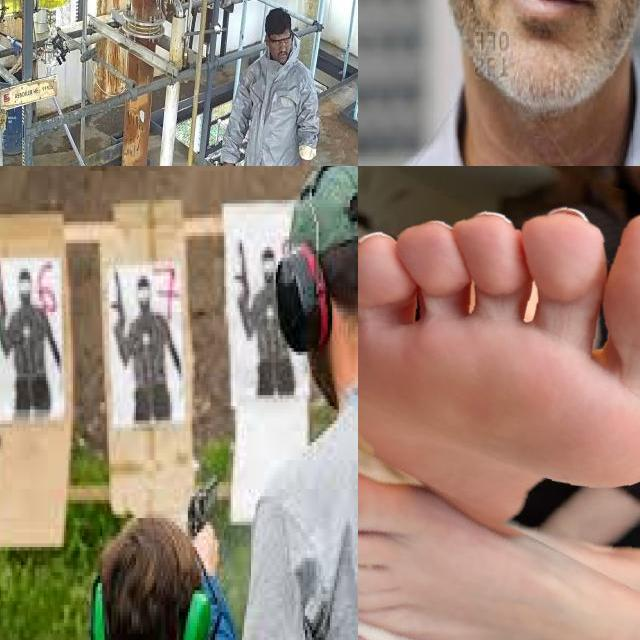Barefoots: (358, 197, 640, 535), (358, 473, 640, 640)
Ear-protection: (269, 236, 332, 352), (176, 583, 210, 640), (84, 568, 106, 640)
face_nomask: (269, 34, 293, 62)
glasses: (267, 33, 294, 50)
hand_noglove: (216, 155, 237, 166)
head_nohelmet: (262, 6, 296, 34)
person: (255, 166, 358, 640), (215, 4, 317, 166)
